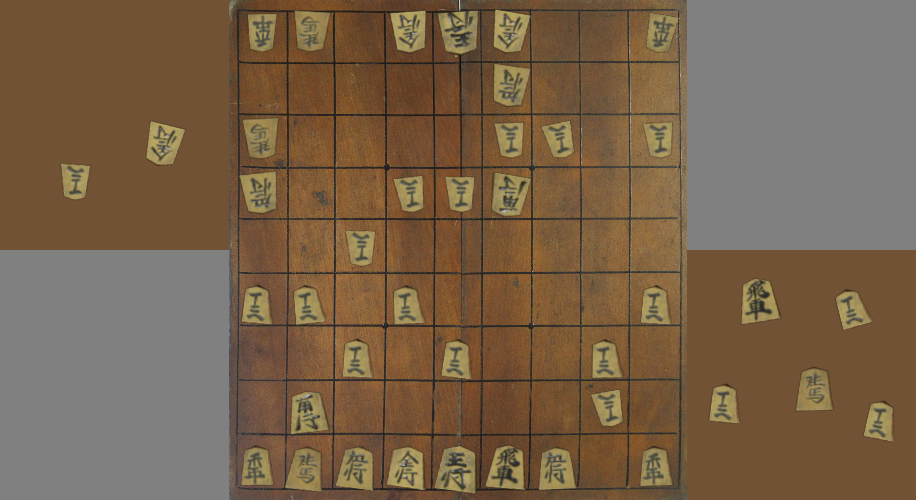A: (332, 433, 383, 491), (628, 272, 680, 325), (334, 325, 385, 379), (628, 434, 678, 488), (382, 434, 431, 489), (433, 435, 481, 491), (482, 434, 530, 490), (286, 435, 334, 490), (529, 435, 577, 490), (238, 434, 286, 488), (582, 326, 629, 379), (387, 272, 434, 324), (239, 275, 286, 326), (435, 327, 480, 380), (286, 382, 332, 433), (289, 275, 334, 324)
B: (482, 113, 532, 166), (630, 113, 679, 167), (479, 10, 530, 61), (238, 113, 286, 167), (630, 10, 680, 61), (382, 11, 432, 61), (335, 220, 384, 271), (238, 168, 287, 218), (433, 10, 481, 61), (482, 62, 530, 113), (581, 381, 627, 434), (483, 168, 531, 218), (532, 115, 580, 164), (386, 169, 434, 218), (240, 11, 286, 62), (435, 169, 482, 218), (291, 11, 333, 63)
C: (737, 277, 790, 325), (831, 290, 875, 333), (795, 367, 835, 413), (704, 383, 744, 425), (861, 398, 897, 443)
D: (141, 118, 186, 169), (58, 161, 93, 202)
